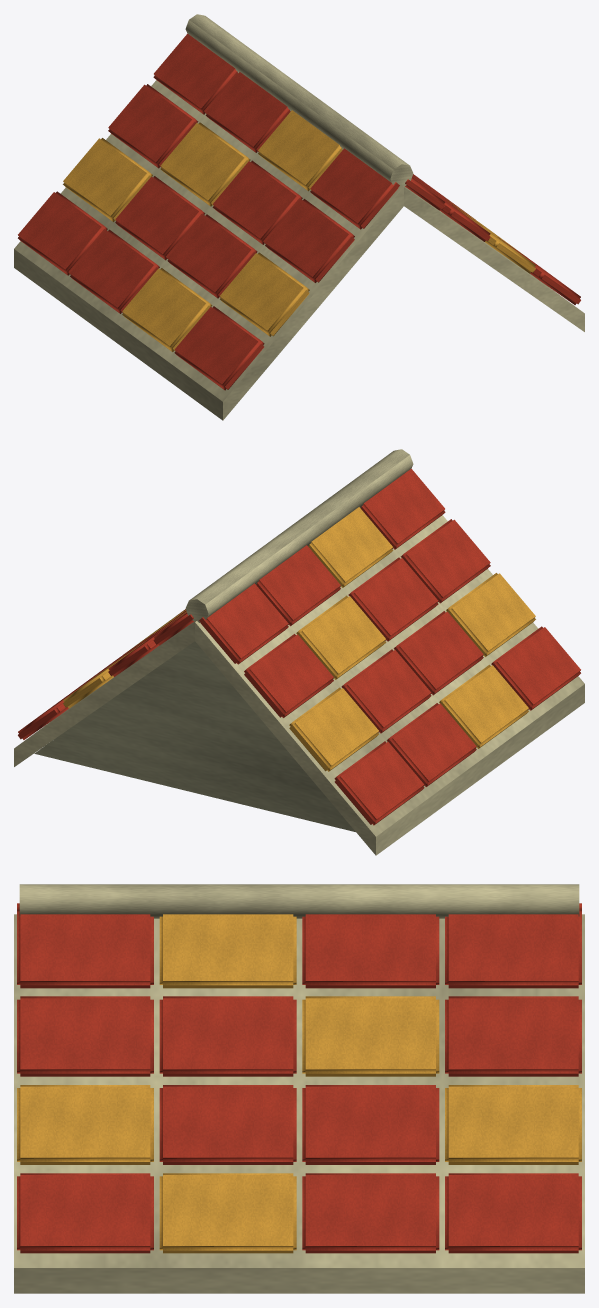
The model's file is roof-end-0.fbx.
The picture shows the model from 3 angles, top to bottom: view 1: azimuth 30°, elevation 25°; view 2: azimuth 150°, elevation 25°; view 3: azimuth 270°, elevation 25°; orthographic projection. The views are drawn at different scales.
Visible parts, largest first — view 1: roof-end-0__Geometry; view 2: roof-end-0__Geometry; view 3: roof-end-0__Geometry.
Boxes of the visible parts, x1,y1,x2,y2 form: roof-end-0__Geometry: (14, 14, 584, 420); roof-end-0__Geometry: (14, 449, 584, 855); roof-end-0__Geometry: (14, 884, 584, 1293).
Bounding box in the file's own units: 1 × 0.557 × 1.
Materials: 1 (1 with a texture image).
